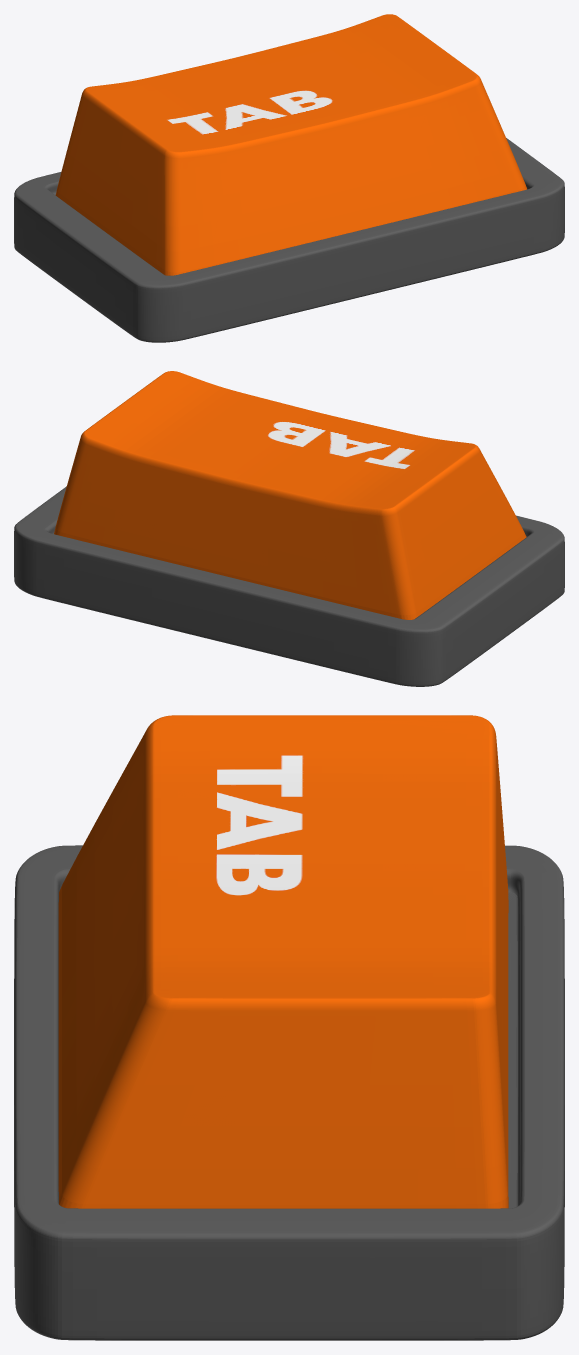
The model's file is tab-key.glb.
3 renders of one model, top to bottom at view 1: azimuth 30°, elevation 25°; view 2: azimuth 150°, elevation 25°; view 3: azimuth 270°, elevation 25°, orthographic. The views are drawn at different scales.
Parts seen in each view (by area): view 1: Plane, Plane.001; view 2: Plane, Plane.001; view 3: Plane, Plane.001.
Part boxes in pixels (x1,y1,x2,y2): Plane: (55, 14, 526, 275); Plane.001: (14, 138, 564, 342); Plane: (54, 371, 526, 619); Plane.001: (14, 486, 564, 686); Plane: (58, 715, 508, 1208); Plane.001: (14, 845, 564, 1340).
Bounding box in the file's own units: 2 × 0.6893 × 1.18.
Materials: 2 (1 with a texture image).
